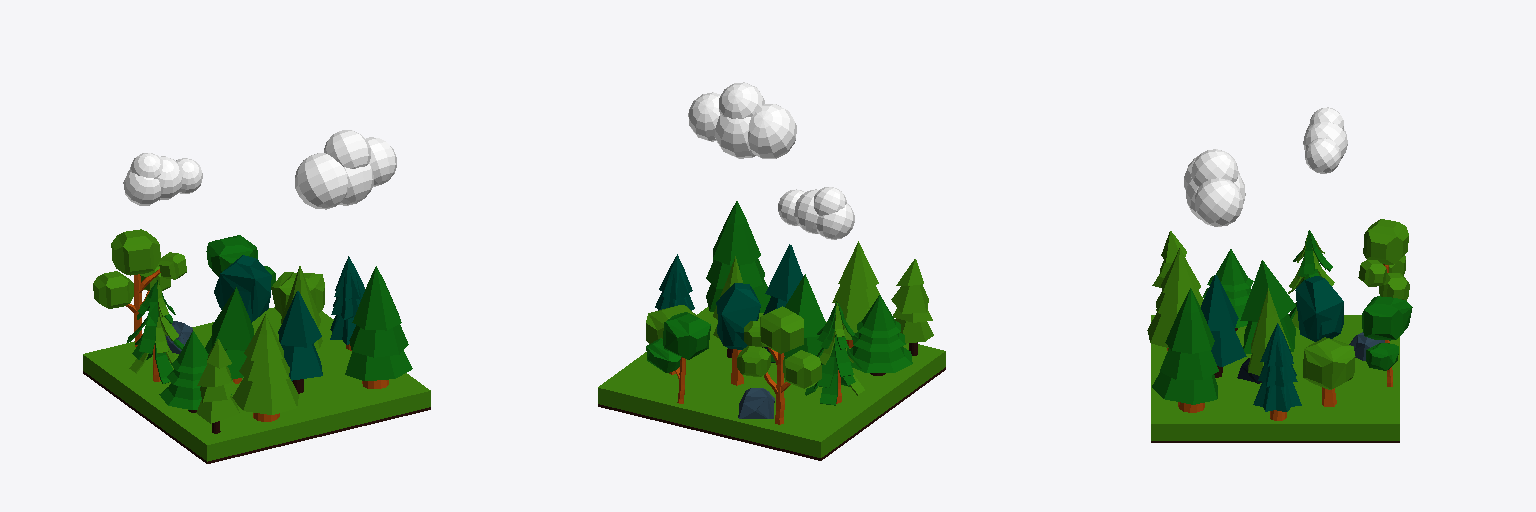
3 renders of one model, left to right at view 1: azimuth 30°, elevation 25°; view 2: azimuth 150°, elevation 25°; view 3: azimuth 270°, elevation 25°, orthographic.
Parts seen in each view (by area): view 1: group[number redacted], group[number redacted], group[number redacted], group[number redacted], group[number redacted], group[number redacted], group[number redacted], group[number redacted], group[number redacted], group[number redacted], group[number redacted], group[number redacted] (+4 smaller); view 2: group[number redacted], group[number redacted], group[number redacted], group[number redacted], group[number redacted], group[number redacted], group[number redacted], group[number redacted], group[number redacted], group[number redacted], group[number redacted], group[number redacted] (+4 smaller); view 3: group[number redacted], group[number redacted], group[number redacted], group[number redacted], group[number redacted], group[number redacted], group[number redacted], group[number redacted], group[number redacted], group[number redacted], group[number redacted], group[number redacted] (+4 smaller).
Boxes of the visible parts, box(x1,y1,x2,y2) form: group[number redacted]: box(83, 307, 430, 463); group[number redacted]: box(295, 130, 396, 209); group[number redacted]: box(345, 266, 412, 388); group[number redacted]: box(93, 229, 186, 346); group[number redacted]: box(232, 314, 298, 421); group[number redacted]: box(123, 153, 202, 205); group[number redacted]: box(127, 280, 183, 383); group[number redacted]: box(278, 291, 322, 393); group[number redacted]: box(214, 255, 271, 322); group[number redacted]: box(196, 339, 239, 433); group[number redacted]: box(205, 287, 253, 383); group[number redacted]: box(159, 331, 231, 412); group[number redacted]: box(598, 307, 945, 460); group[number redacted]: box(688, 82, 796, 158); group[number redacted]: box(737, 306, 821, 424); group[number redacted]: box(706, 201, 770, 312); group[number redacted]: box(847, 295, 912, 375); group[number redacted]: box(778, 187, 854, 239); group[number redacted]: box(805, 301, 864, 405); group[number redacted]: box(646, 312, 710, 403); group[number redacted]: box(716, 283, 760, 385); group[number redacted]: box(832, 241, 879, 347); group[number redacted]: box(891, 259, 933, 355); group[number redacted]: box(769, 274, 825, 362); group[number redacted]: box(1151, 315, 1399, 442); group[number redacted]: box(1152, 288, 1218, 412); group[number redacted]: box(1184, 149, 1245, 226); group[number redacted]: box(1358, 219, 1409, 300); group[number redacted]: box(1362, 296, 1412, 386); group[number redacted]: box(1253, 323, 1301, 420); group[number redacted]: box(1295, 276, 1343, 341); group[number redacted]: box(1303, 337, 1355, 406); group[number redacted]: box(1147, 248, 1203, 350); group[number redacted]: box(1201, 275, 1246, 377); group[number redacted]: box(1303, 107, 1347, 173); group[number redacted]: box(1240, 260, 1295, 353).
Bounding box in the file's own units: 0.8954 × 0.9811 × 0.8829.